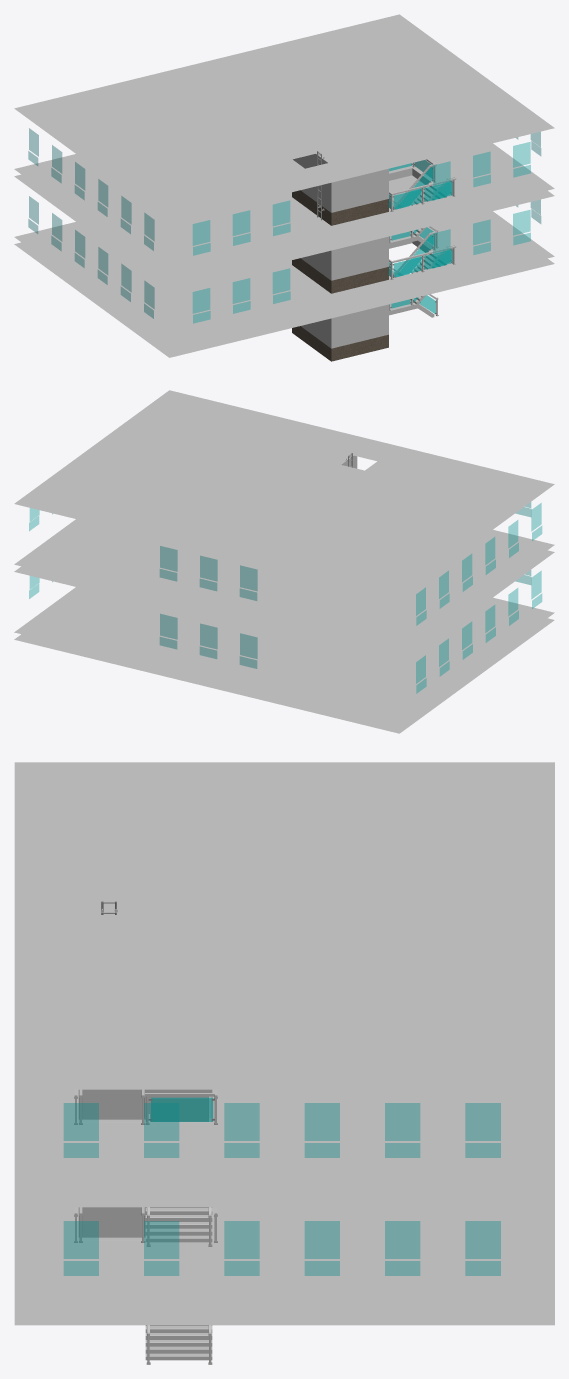
Rendered from Building06_V1_Interior02.fbx.
3 renders of one model, top to bottom at view 1: azimuth 30°, elevation 25°; view 2: azimuth 150°, elevation 25°; view 3: azimuth 270°, elevation 25°, orthographic. The views are drawn at different scales.
Parts seen in each view (by area): view 1: Building06_V1_Interior02; view 2: Building06_V1_Interior02; view 3: Building06_V1_Interior02.
Part boxes in pixels (left/top/right/bottom): Building06_V1_Interior02: left=14, top=14, right=554, bottom=361; Building06_V1_Interior02: left=14, top=390, right=554, bottom=733; Building06_V1_Interior02: left=14, top=762, right=554, bottom=1364.
Size of the model in its own units: 2420 by 1211 by 1683.
